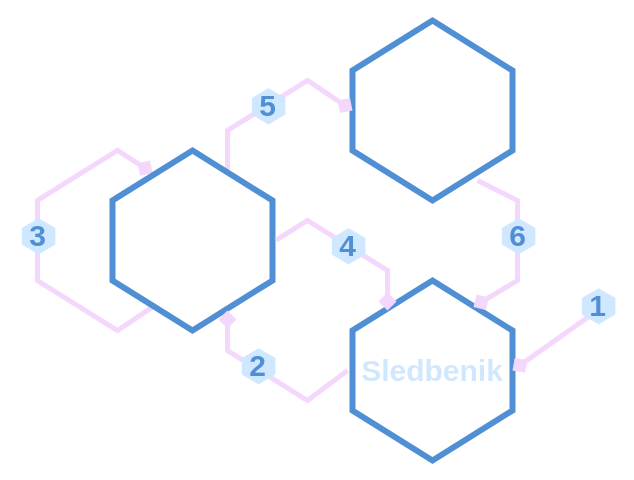
The diagram is 634 pixels wide and 480 high, and some of its shapes have lost their labels. The shapes that lost their labels are listed below. From the top down, each one's centre as x and y in pixels, then its label:
pixel 432 110: Lider
pixel 192 240: Kandidat
